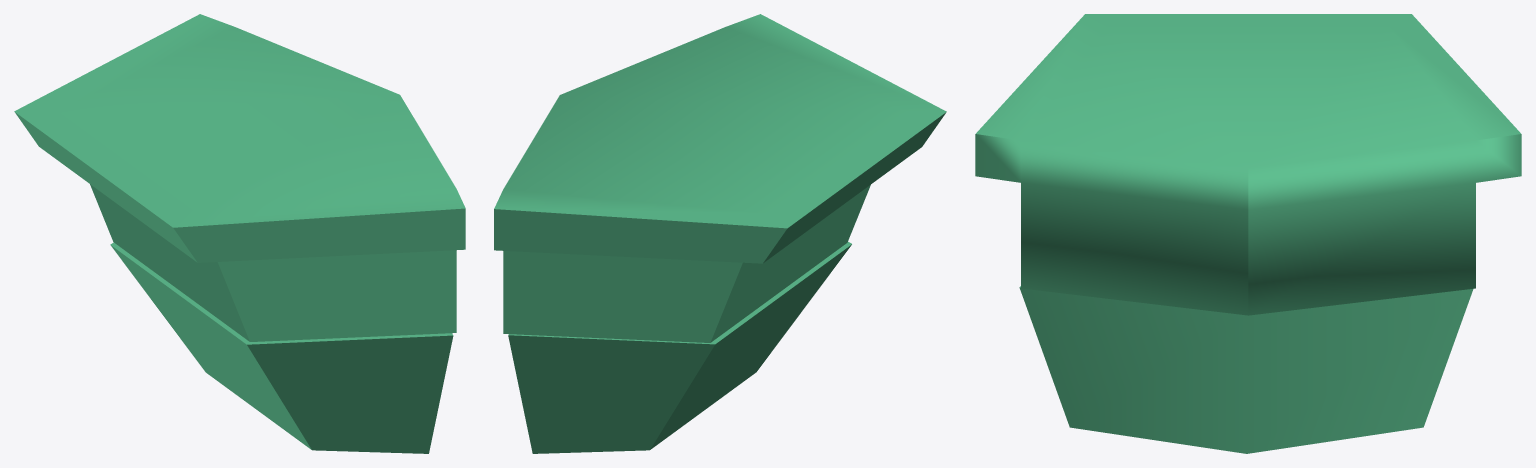
The model's file is Statues_Basement_03_Lod0.fbx.
The picture shows the model from 3 angles, left to right: view 1: azimuth 30°, elevation 25°; view 2: azimuth 150°, elevation 25°; view 3: azimuth 270°, elevation 25°; orthographic projection. The views are drawn at different scales.
Parts seen in each view (by area): view 1: Statues_Basement_03_Lod0; view 2: Statues_Basement_03_Lod0; view 3: Statues_Basement_03_Lod0.
Part boxes in pixels (x1,y1,x2,y2): Statues_Basement_03_Lod0: (14,14,465,453); Statues_Basement_03_Lod0: (494,14,946,453); Statues_Basement_03_Lod0: (975,14,1521,453).
Size of the model in its own units: 82.74 by 72.57 by 124.
